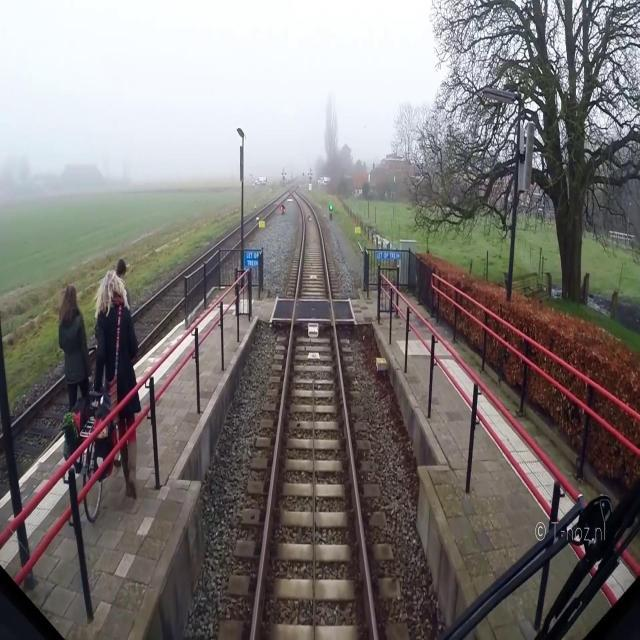rail: (224, 177, 425, 640)
